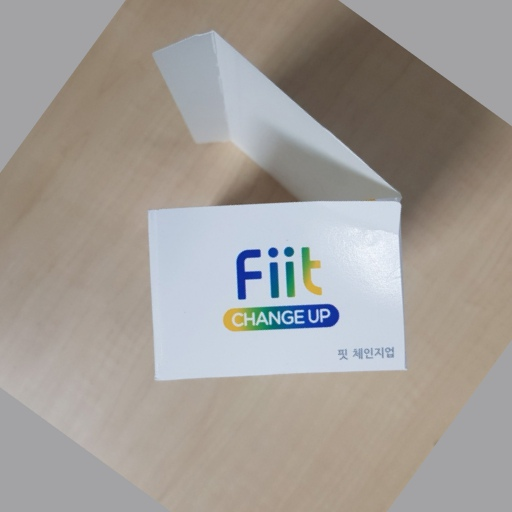Paper_0: (135, 20, 428, 388)
